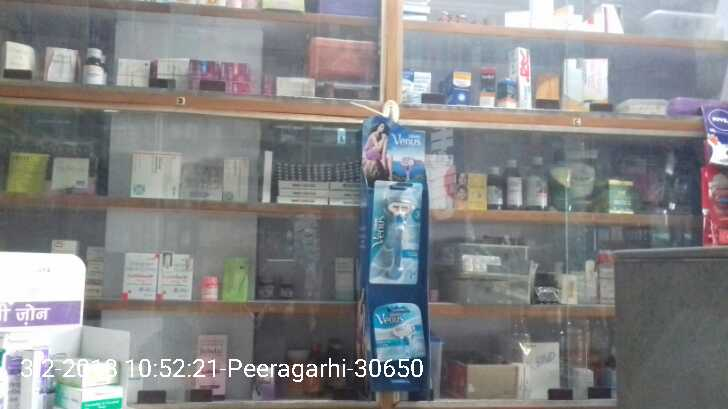venus: (371, 171, 417, 278), (369, 304, 428, 356)
